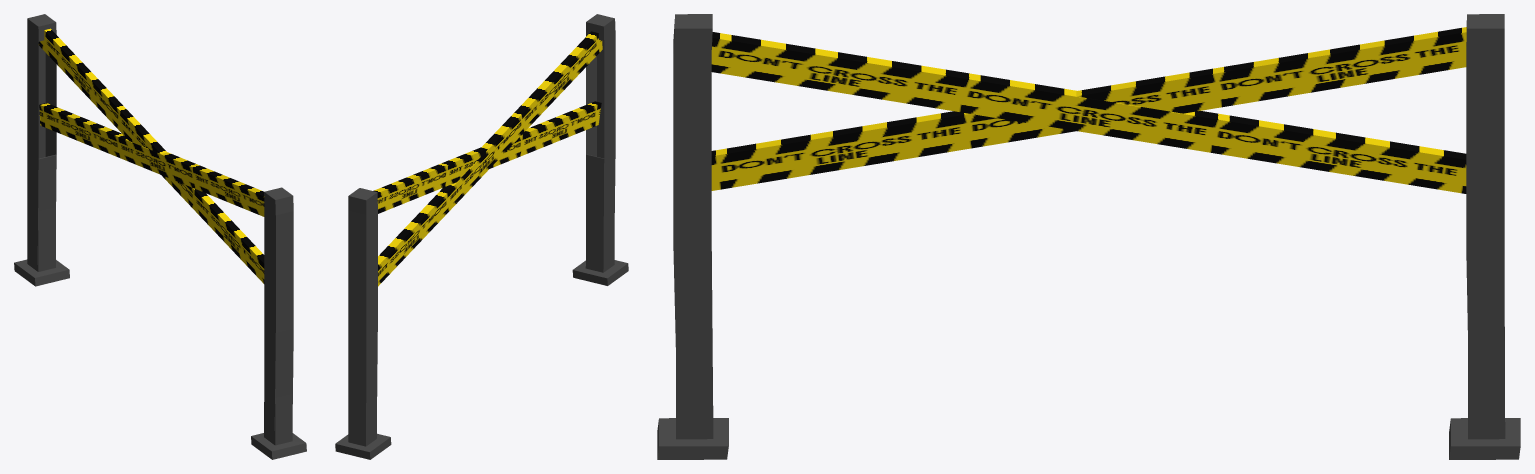
The model's file is LineCorreta.fbx.
3 renders of one model, left to right at view 1: azimuth 30°, elevation 25°; view 2: azimuth 150°, elevation 25°; view 3: azimuth 270°, elevation 25°, orthographic. The views are drawn at different scales.
Parts seen in each view (by area): view 1: Cube.002; view 2: Cube.002; view 3: Cube.002.
Part boxes in pixels (bbox=[...]): Cube.002: bbox=[14, 14, 306, 459]; Cube.002: bbox=[335, 14, 628, 459]; Cube.002: bbox=[657, 14, 1520, 459].
Bounding box in the file's own units: 1011 × 7089 × 13066.
